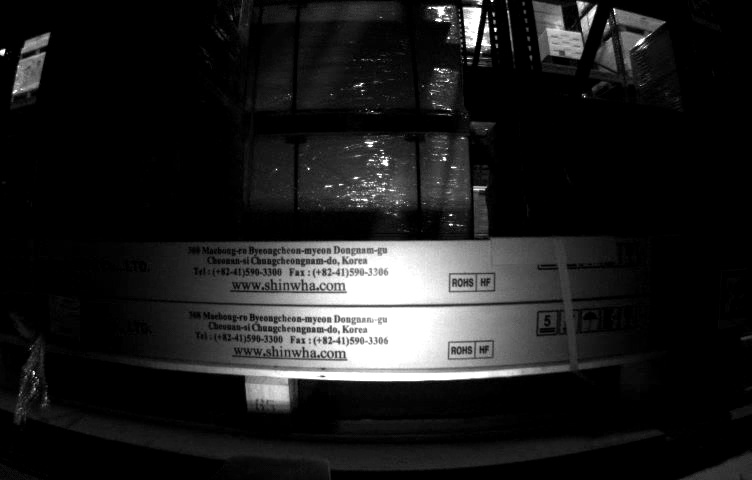True Barcode: (49, 293, 82, 334)
